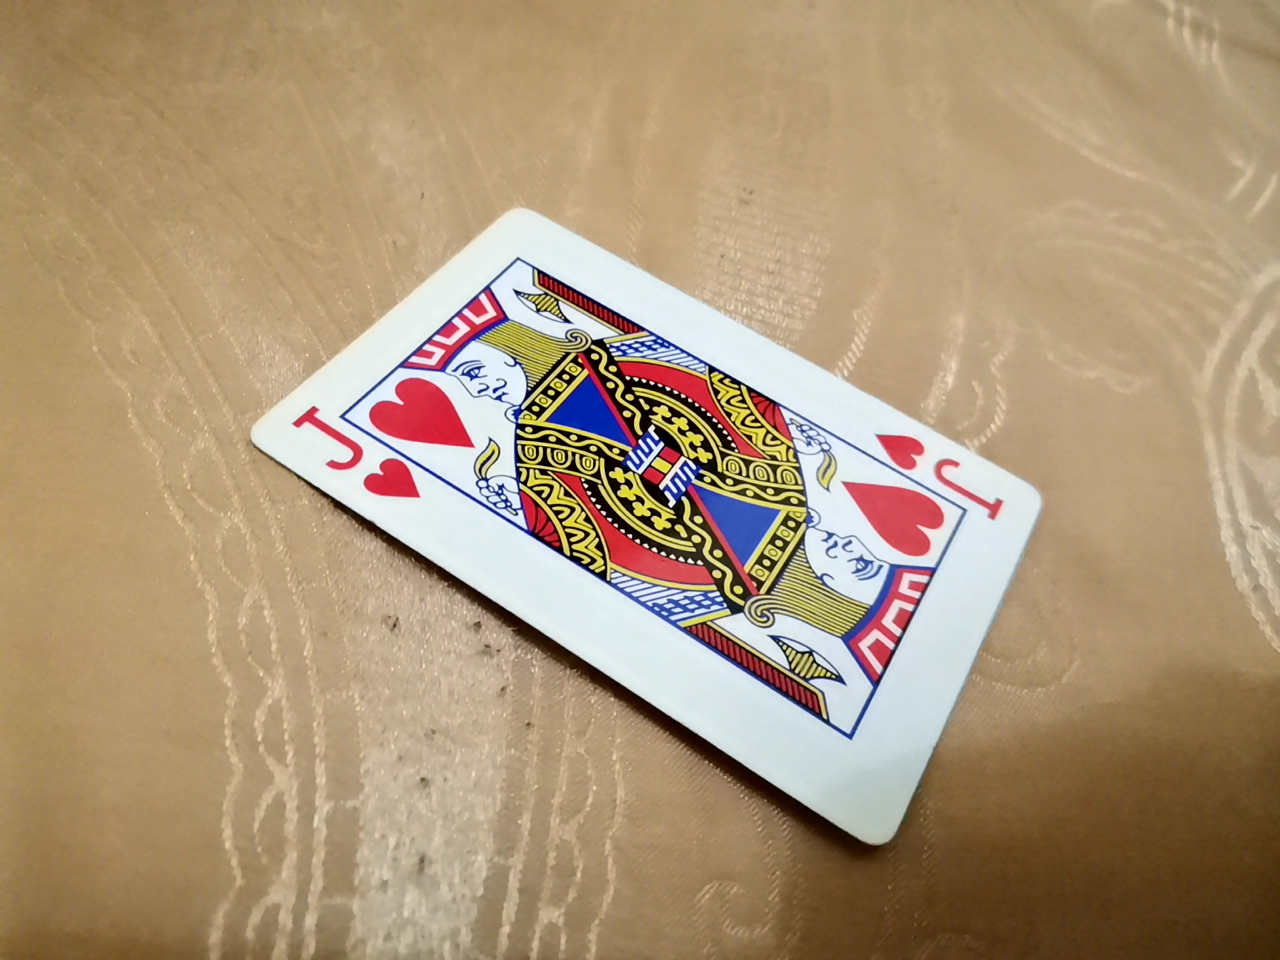hx j: (232, 204, 1057, 850)
